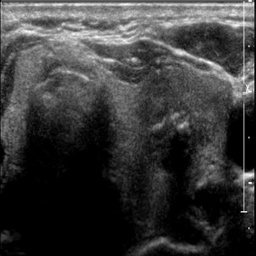mass: (160, 55, 231, 132)
